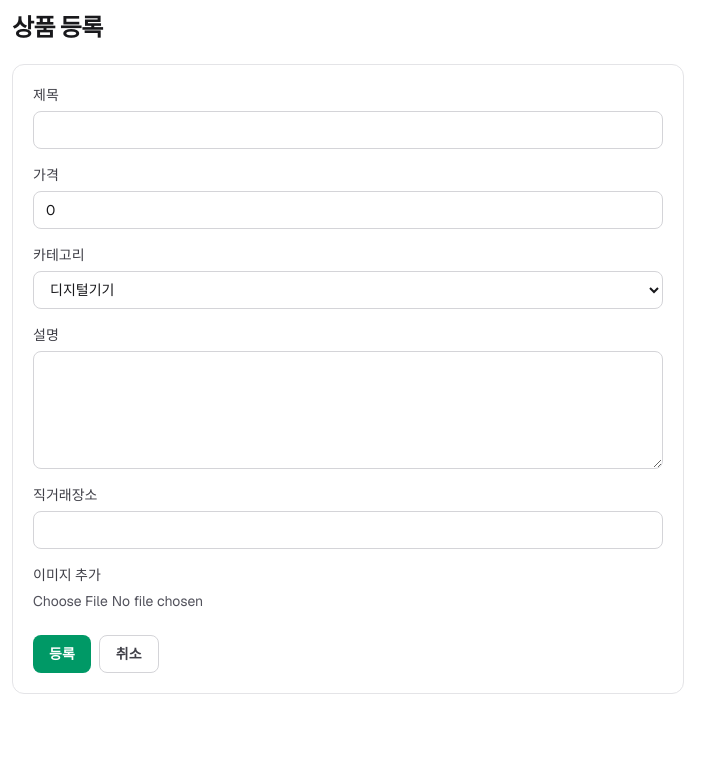
Test: ProductForm — create mode › shows the '위치를 먼저 설정' notice with a link to /settings/location on NO_LOCATION
Type "제목" into the field labelled "제목". click: (348, 130)
box: [33,111,663,149]
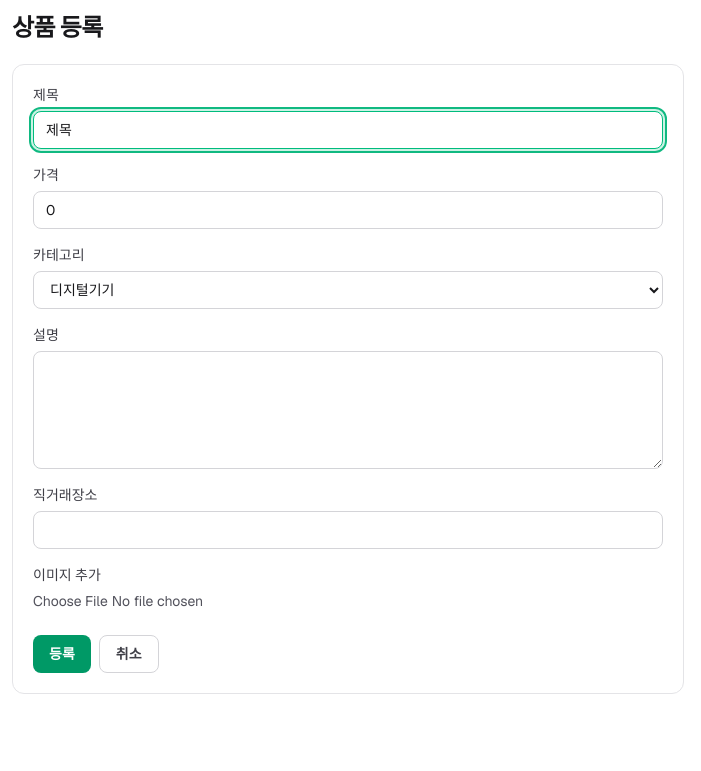
Click the button "등록". click: click(62, 654)
box: [33,635,91,673]
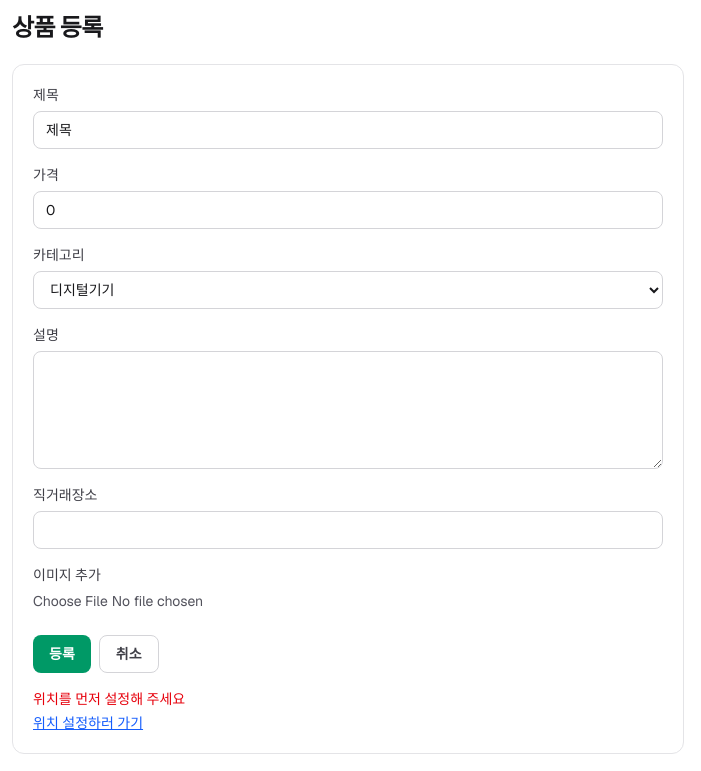
Check: the message shows "위치를 먼저 설정", box [33,690,185,708]
